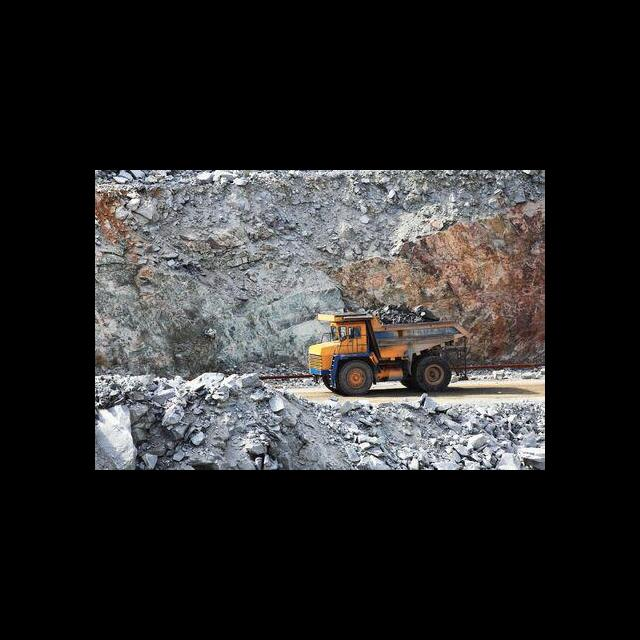dump truck: (306, 305, 473, 399)
